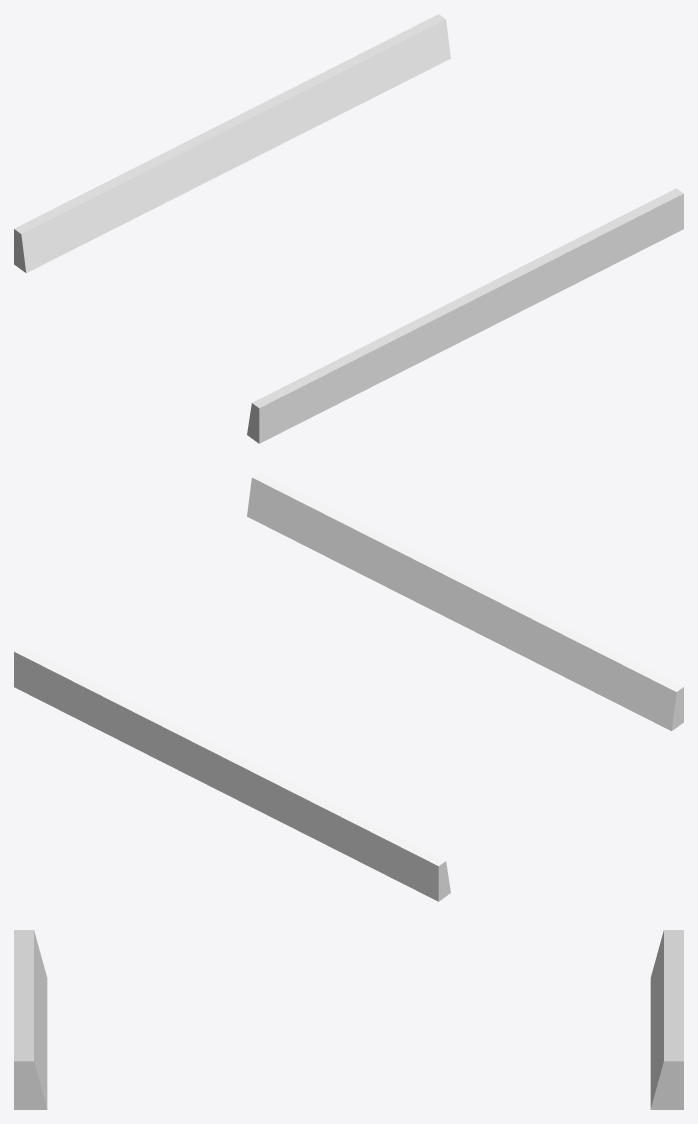
File: kenney-city-roads-road-slant-barrier.glb
3 views of the same model, one above another, from view 1: azimuth 30°, elevation 25°; view 2: azimuth 150°, elevation 25°; view 3: azimuth 270°, elevation 25° (orthographic). The views are drawn at different scales.
Visible parts, largest first — view 1: road-slant-barrier; view 2: road-slant-barrier; view 3: road-slant-barrier.
Part boxes in pixels (x1,y1,x2,y2): road-slant-barrier: (14, 14, 683, 443); road-slant-barrier: (14, 472, 683, 901); road-slant-barrier: (14, 930, 683, 1109).
Bounding box in the file's own units: 1 × 0.33 × 1.
1 material, 1 textured.
